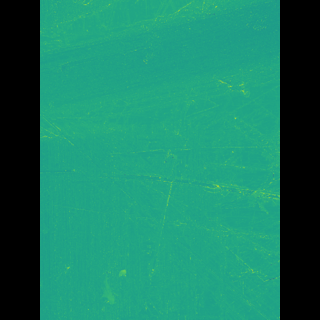Loch: (141, 0, 249, 320), (68, 0, 249, 145)
